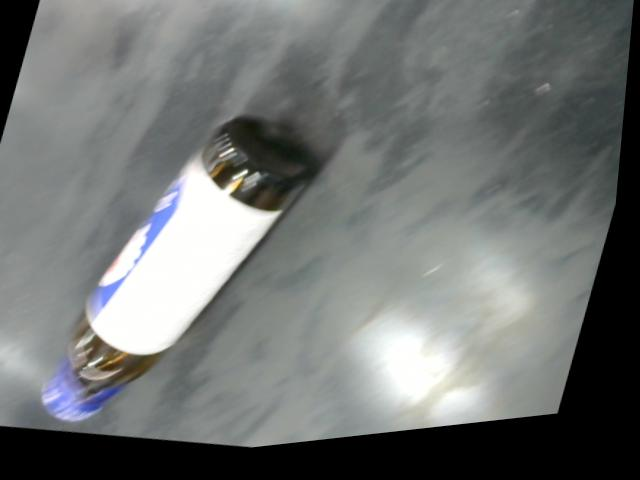glass: (35, 105, 341, 432)
